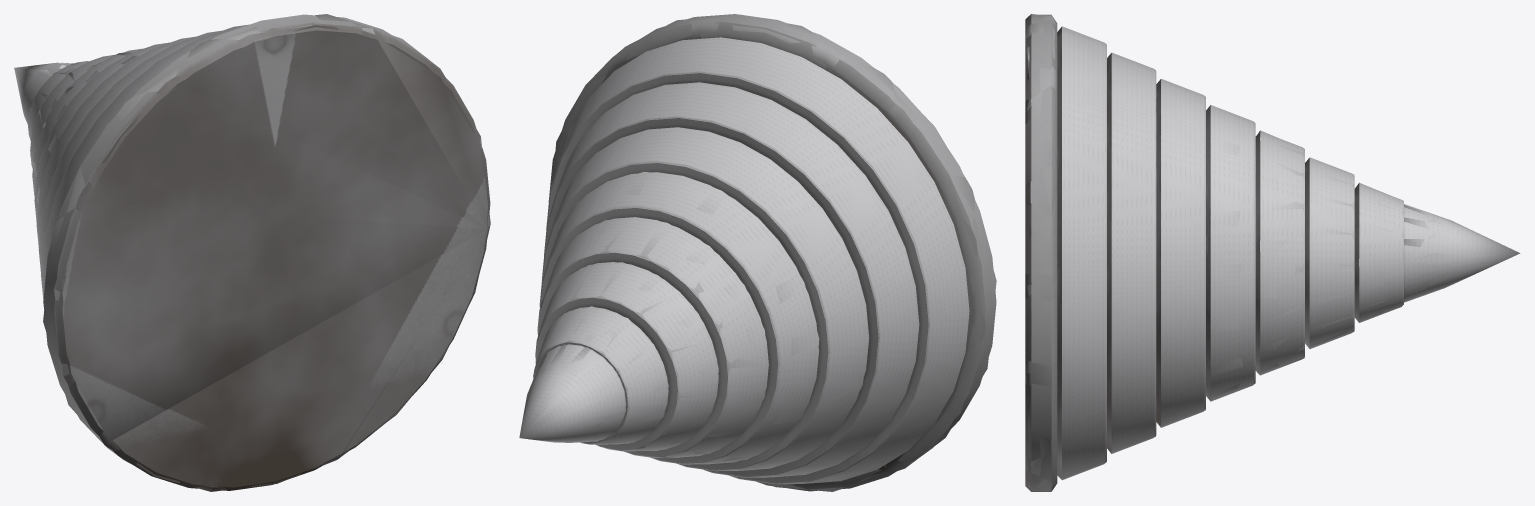
The model's file is SM_DRL_Drill_Standard.fbx.
The picture shows the model from 3 angles, left to right: view 1: azimuth 30°, elevation 25°; view 2: azimuth 150°, elevation 25°; view 3: azimuth 270°, elevation 25°; orthographic projection. The views are drawn at different scales.
Visible parts, largest first — view 1: DrillBase, DrillBase_L1, DrillSections, DrillTip, DrillSections_L1; view 2: DrillSections, DrillSections_L1, DrillBase, DrillBase_L1, DrillTip, DrillTip_L1; view 3: DrillSections, DrillSections_L1, DrillBase, DrillBase_L1, DrillTip, DrillTip_L1.
Part boxes in pixels (box(x1,y1,x2,y2)): DrillBase: box(43, 14, 490, 490); DrillBase_L1: box(43, 14, 490, 491); DrillSections: box(28, 24, 248, 300); DrillTip: box(14, 62, 72, 121); DrillSections_L1: box(30, 52, 158, 204); DrillSections: box(533, 37, 969, 484); DrillSections_L1: box(533, 71, 930, 483); DrillBase: box(548, 14, 996, 491); DrillBase_L1: box(555, 18, 996, 491); DrillTip: box(519, 344, 626, 442); DrillTip_L1: box(519, 344, 625, 442); DrillSections: box(1057, 26, 1403, 480); DrillSections_L1: box(1057, 27, 1403, 479); DrillBase: box(1025, 14, 1057, 491); DrillBase_L1: box(1025, 14, 1057, 490); DrillTip: box(1404, 204, 1520, 302); DrillTip_L1: box(1404, 205, 1519, 301).
Bounding box in the file's own units: 0.8205 × 0.85 × 0.82.
